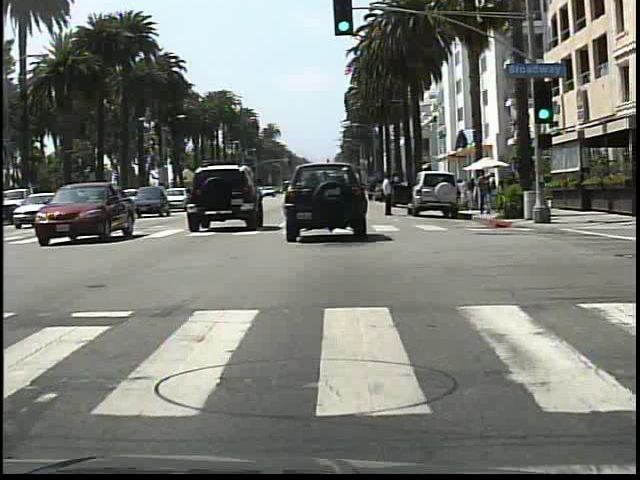person: (377, 167, 400, 220)
